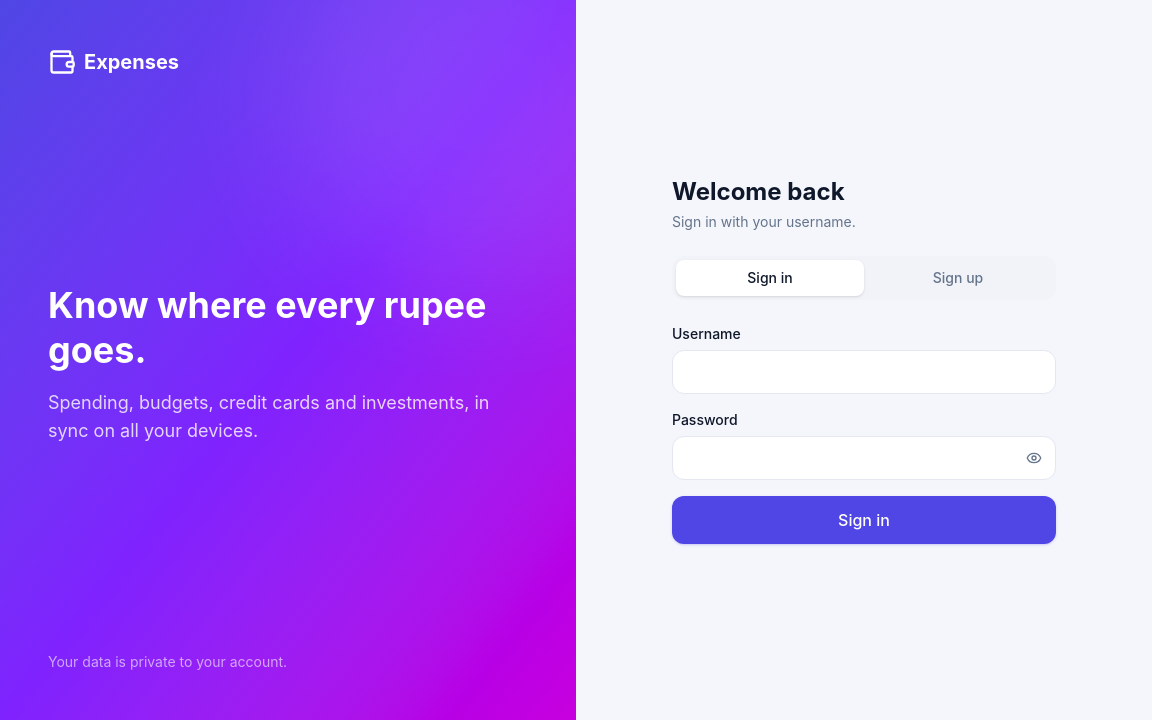
Test case: Login screen › shows the error from a failed sign-in on the page
Type "nobody" into the field labelled "Username" at (864, 372), box [672,350,1056,394]
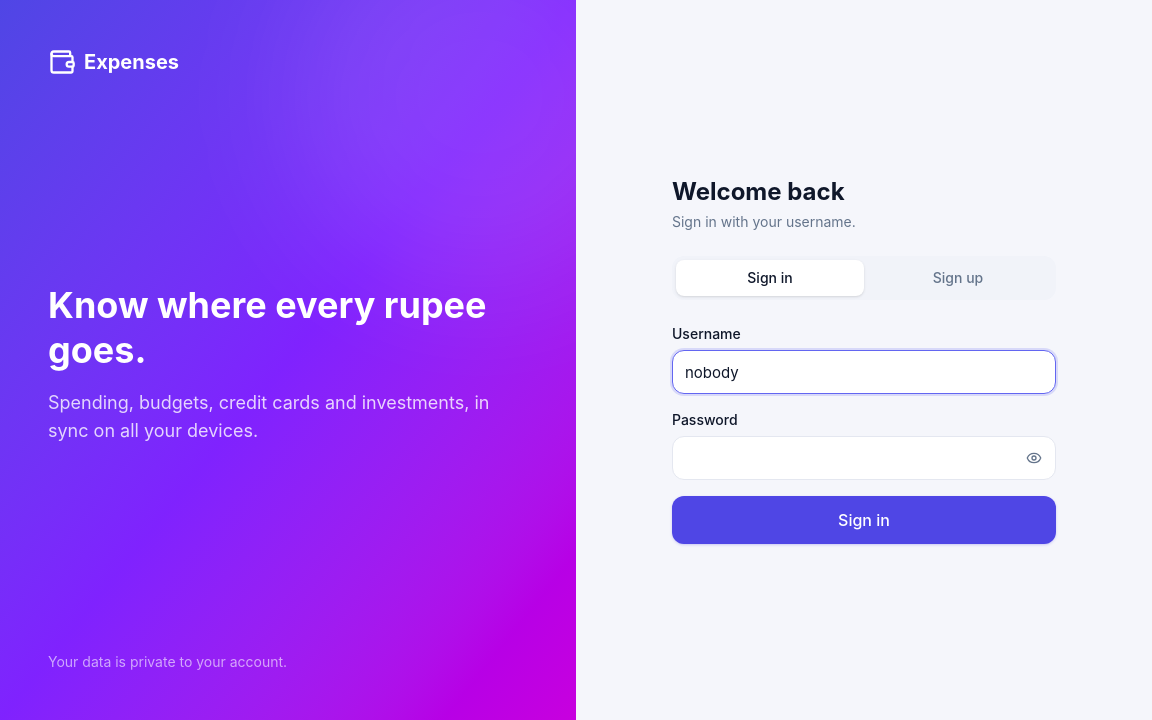
Type "nope" into the password field labelled "Password" at (864, 458), box [672,436,1056,480]
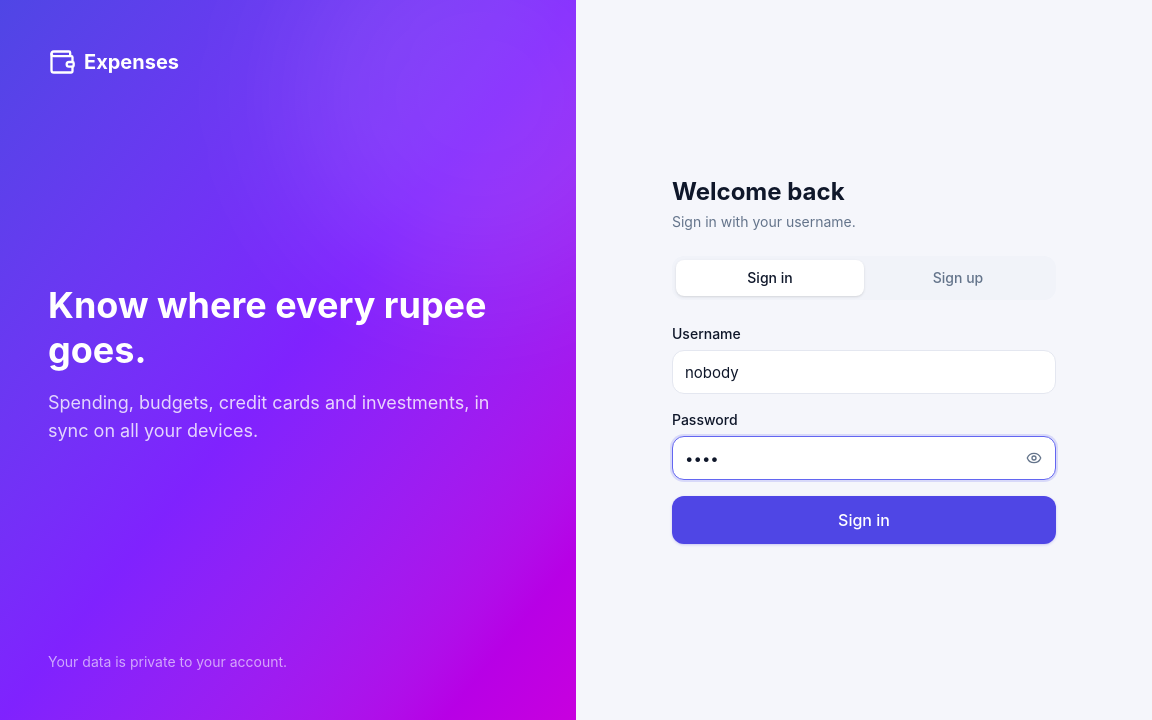
Click the button "Sign in" at (864, 520), box [672,496,1056,544]
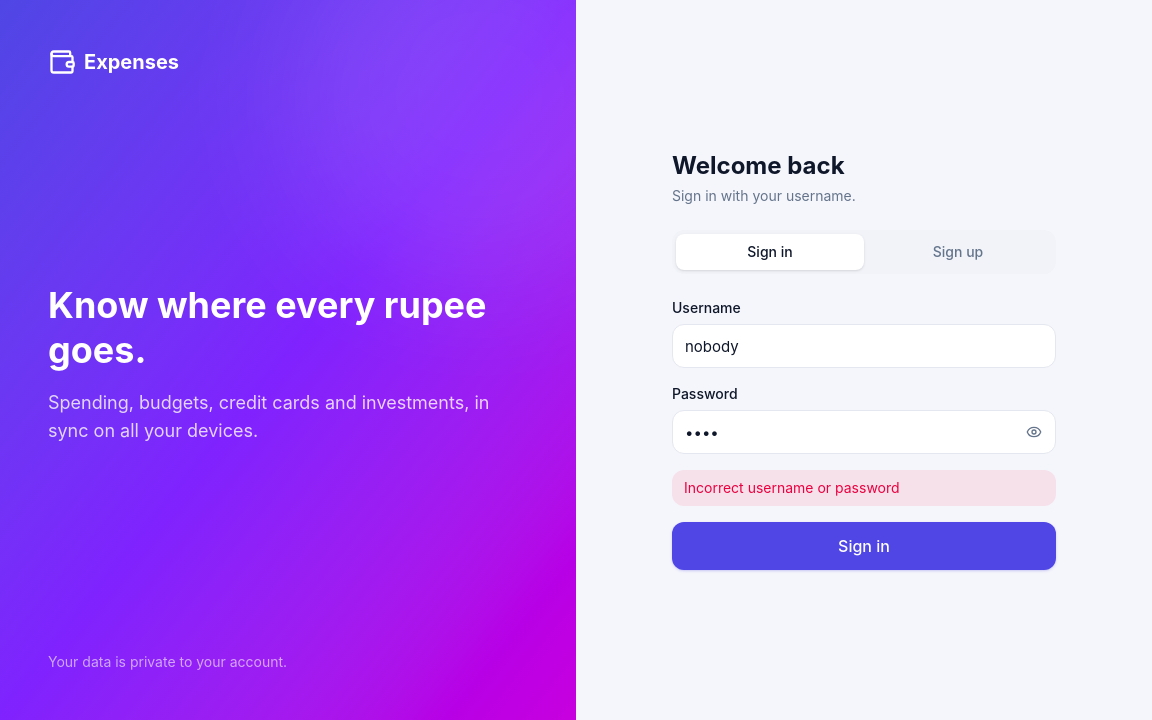
Now the message reads "Incorrect username or password", box [684,479,900,496]
